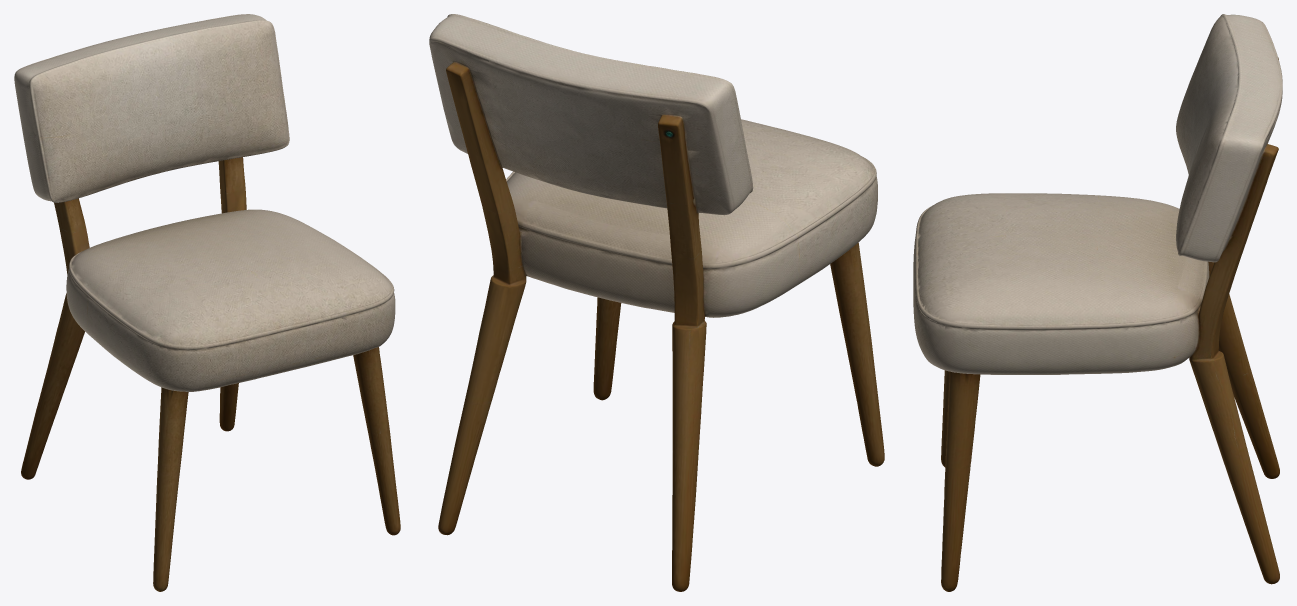
The model's file is chair.glb.
3 views of the same model, side by side, from view 1: azimuth 30°, elevation 25°; view 2: azimuth 150°, elevation 25°; view 3: azimuth 270°, elevation 25° (orthographic). The views are drawn at different scales.
Parts seen in each view (by area): view 1: world; view 2: world; view 3: world.
Boxes of the visible parts, x1,y1,x2,y2 form: world: (14,14,400,591); world: (429,14,884,591); world: (913,14,1282,591).
Bounding box in the file's own units: 0.4168 × 0.6834 × 0.5.
Materials: 1 (1 with a texture image).
